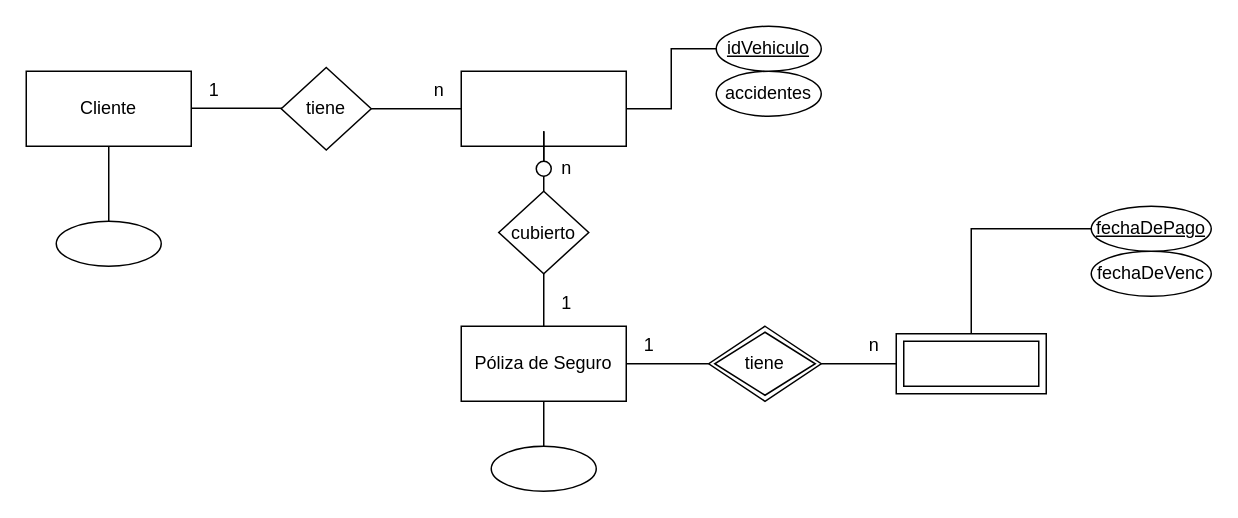
Some shapes in this 1238 by 518 pixel diagram are drawn without their labels. Here are the shapes that lost their labels. From the top down, the centre of each, then its label:
At (543,108): "Vehículo".
At (108,243): "idCliente".
At (970,363): "Pago de Prima".
At (543,468): "nroPóliza".
